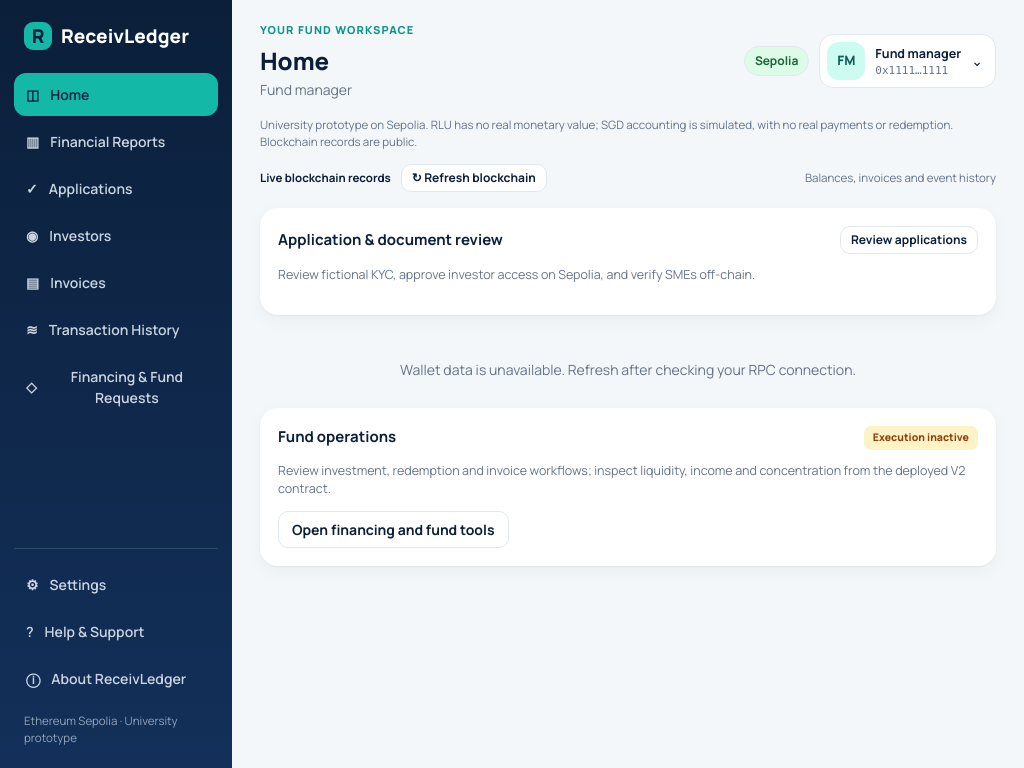
it: Stage A wallet navigation and account controls › orders the manager workflow and groups support links above the prototype note
The image size is (1024, 768).
Expected: the text "Ethereum Sepolia · University prototype" is shown, [24,712,178,745]
Click the button "ⓘ About ReceivLedger". click: (116, 678)
box: [14,656,218,700]
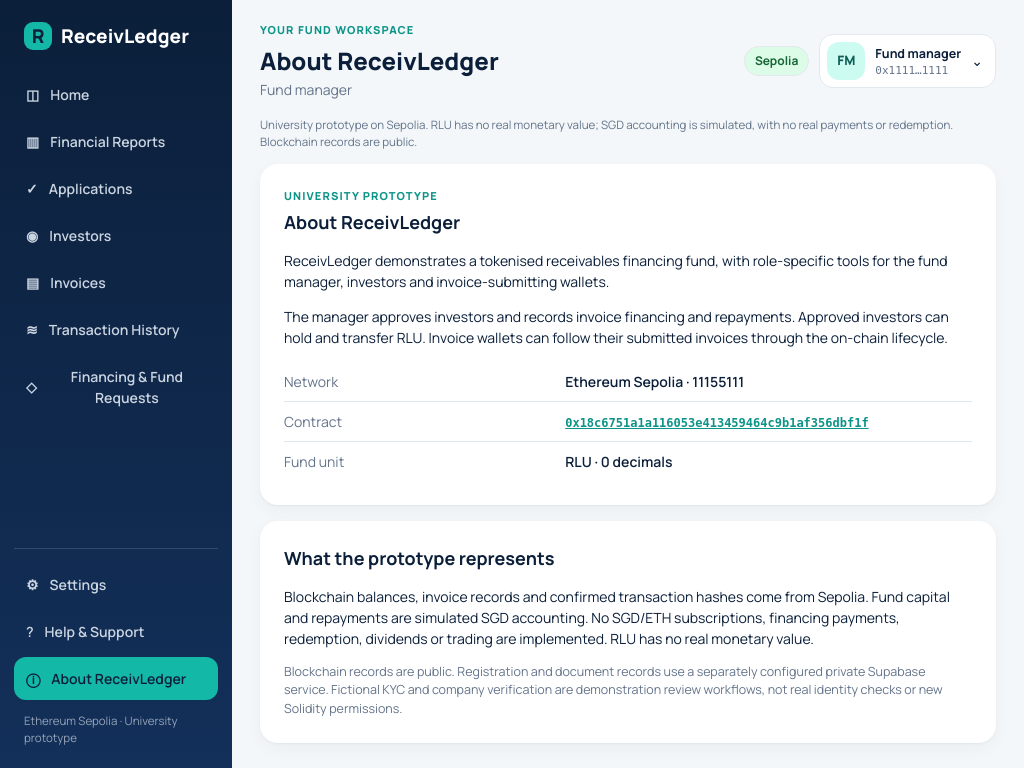
Expected: the 2nd heading "About ReceivLedger" is shown, [284,210,460,234]
